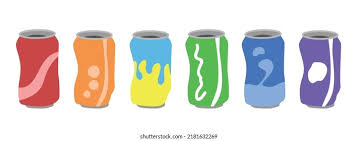can: (16, 26, 349, 114)
